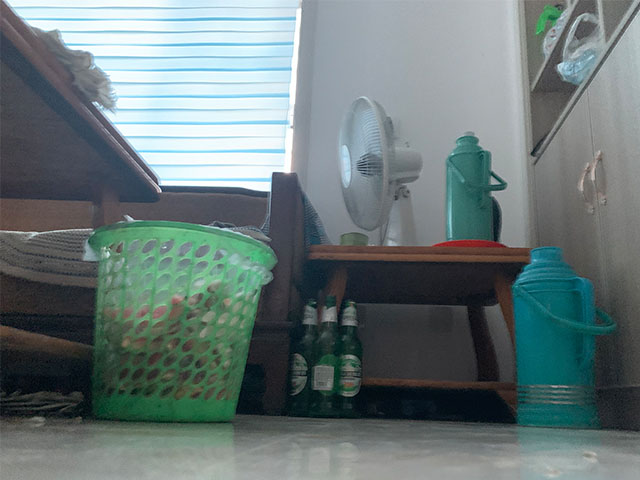cabinet: (516, 1, 639, 428)
sofa: (1, 171, 333, 417)
table: (303, 243, 534, 423)
trashcan: (87, 219, 279, 424)
